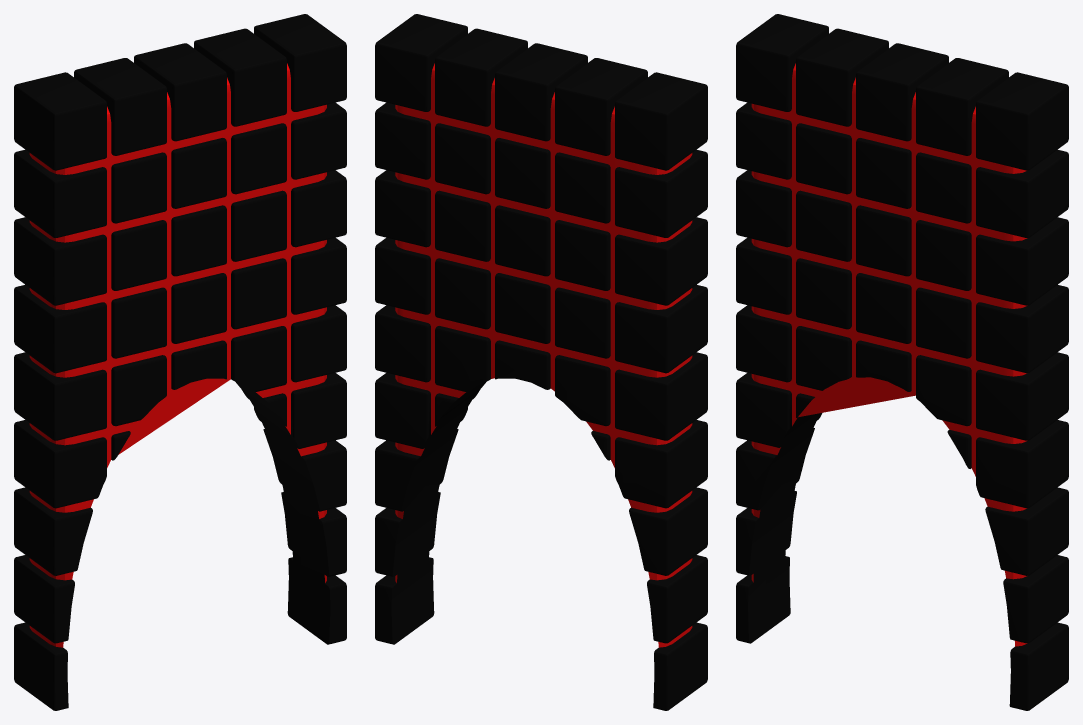
The model's file is Muro 1.fbx.
3 renders of one model, left to right at view 1: azimuth 30°, elevation 25°; view 2: azimuth 150°, elevation 25°; view 3: azimuth 330°, elevation 25°, orthographic.
Visible parts, largest first — view 1: polySurface10; view 2: polySurface10; view 3: polySurface10.
Boxes of the visible parts, x1,y1,x2,y2 form: polySurface10: [14, 14, 346, 710]; polySurface10: [375, 14, 707, 710]; polySurface10: [736, 14, 1068, 710].
Bounding box in the file's own units: 4.08 × 7.96 × 1.
